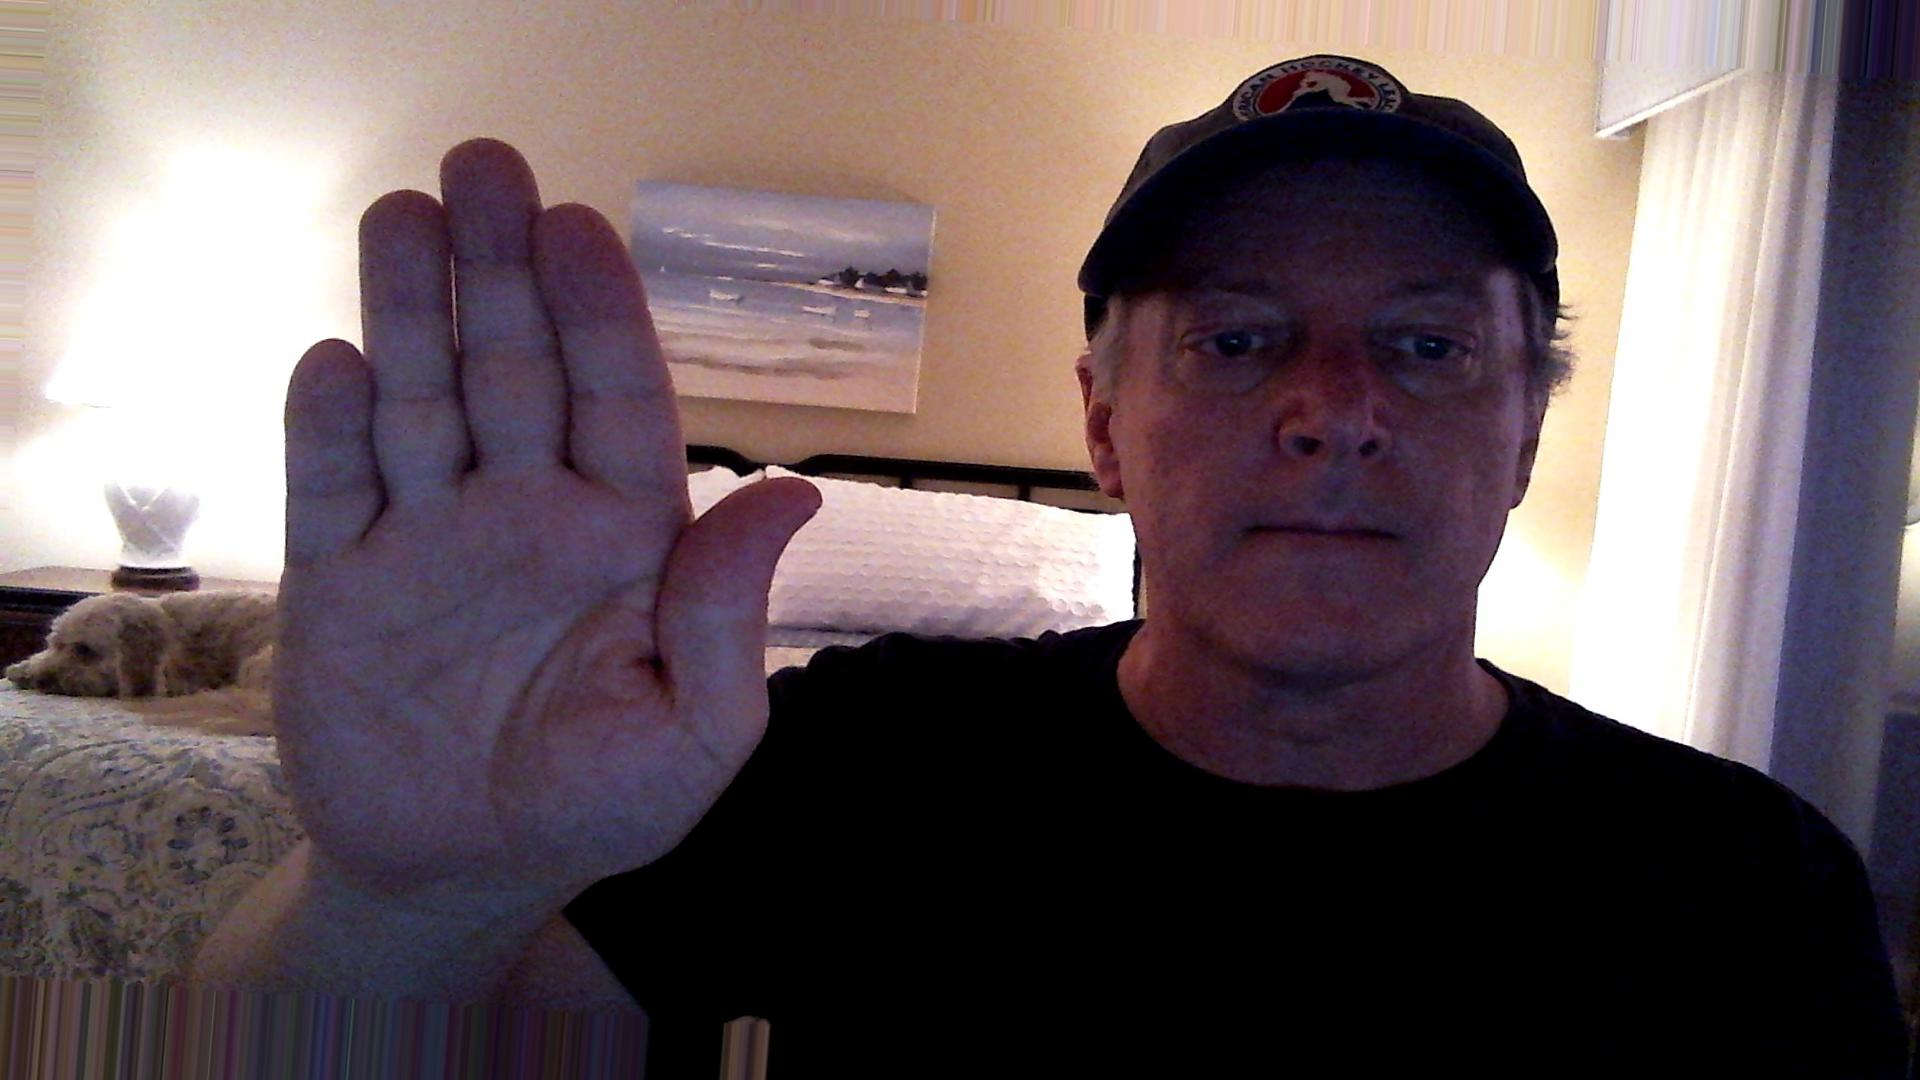Hello: (273, 123, 831, 914)
